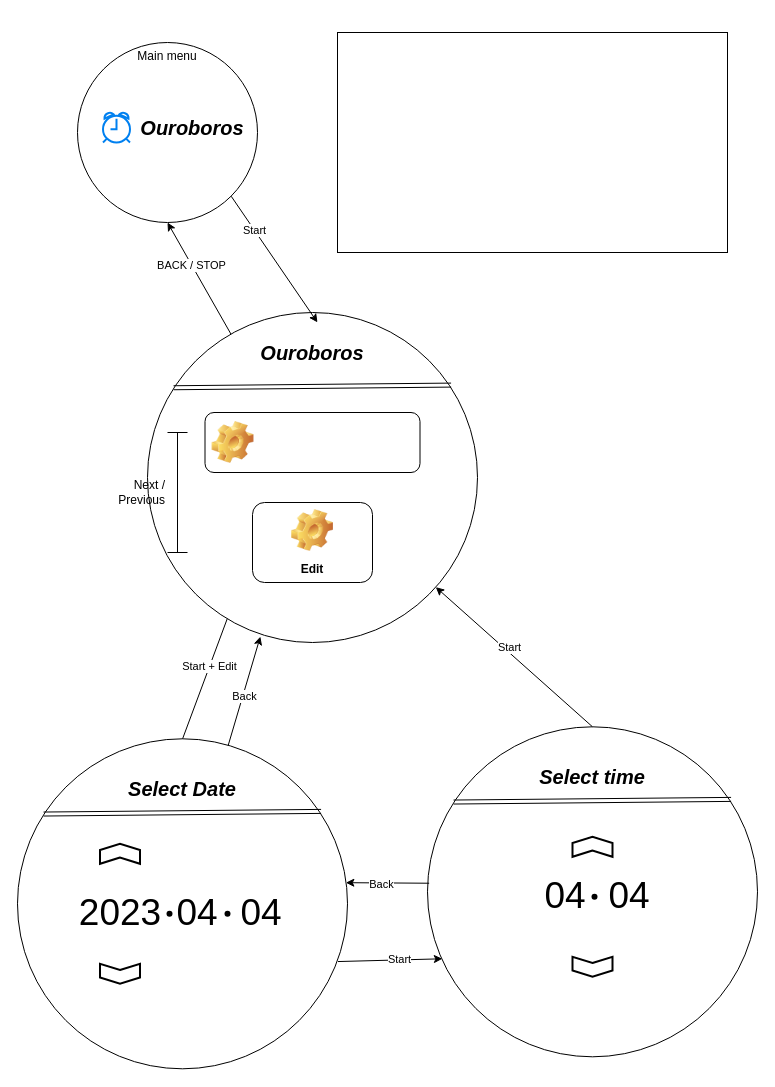
This 775x1087 diagram has some shape labels left out. Here are the shapes that lost their labels. From the top down, the box of each, then its label:
(336, 32, 728, 252): Ouroboros Set a date and display the time elapse
(204, 412, 420, 472): Date Time elapsed
